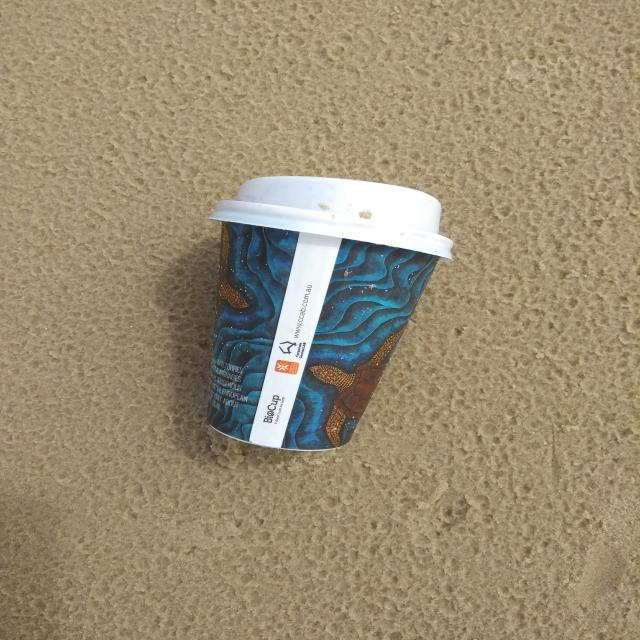litter: (206, 176, 454, 451)
